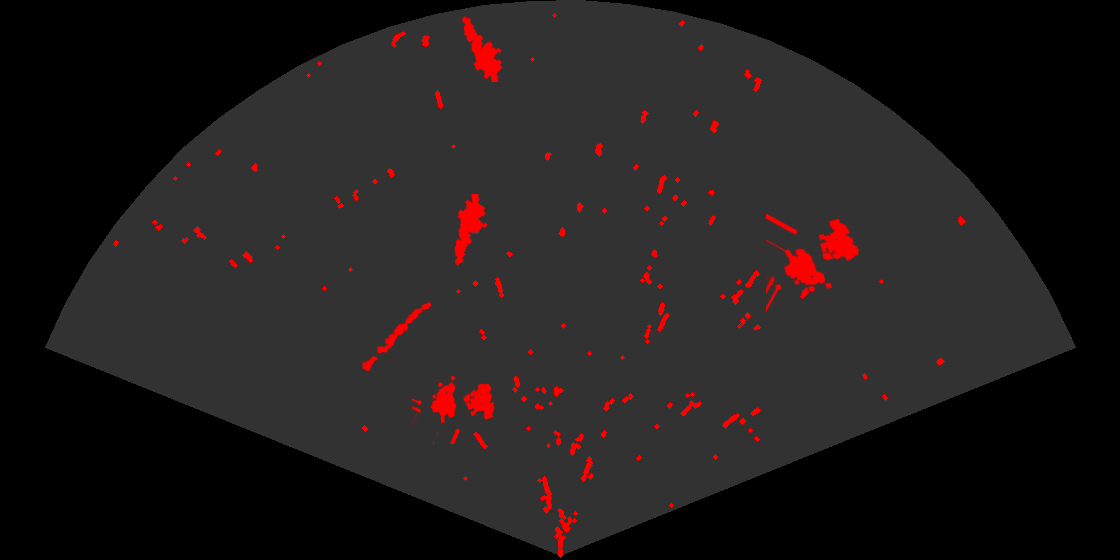cage: (766, 212, 861, 314), (412, 374, 496, 444)
chain: (360, 301, 433, 373)
frogman: (461, 15, 504, 82), (453, 194, 489, 266)
